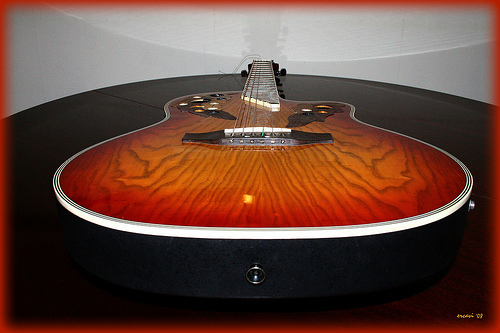guitar: (52, 55, 479, 299)
